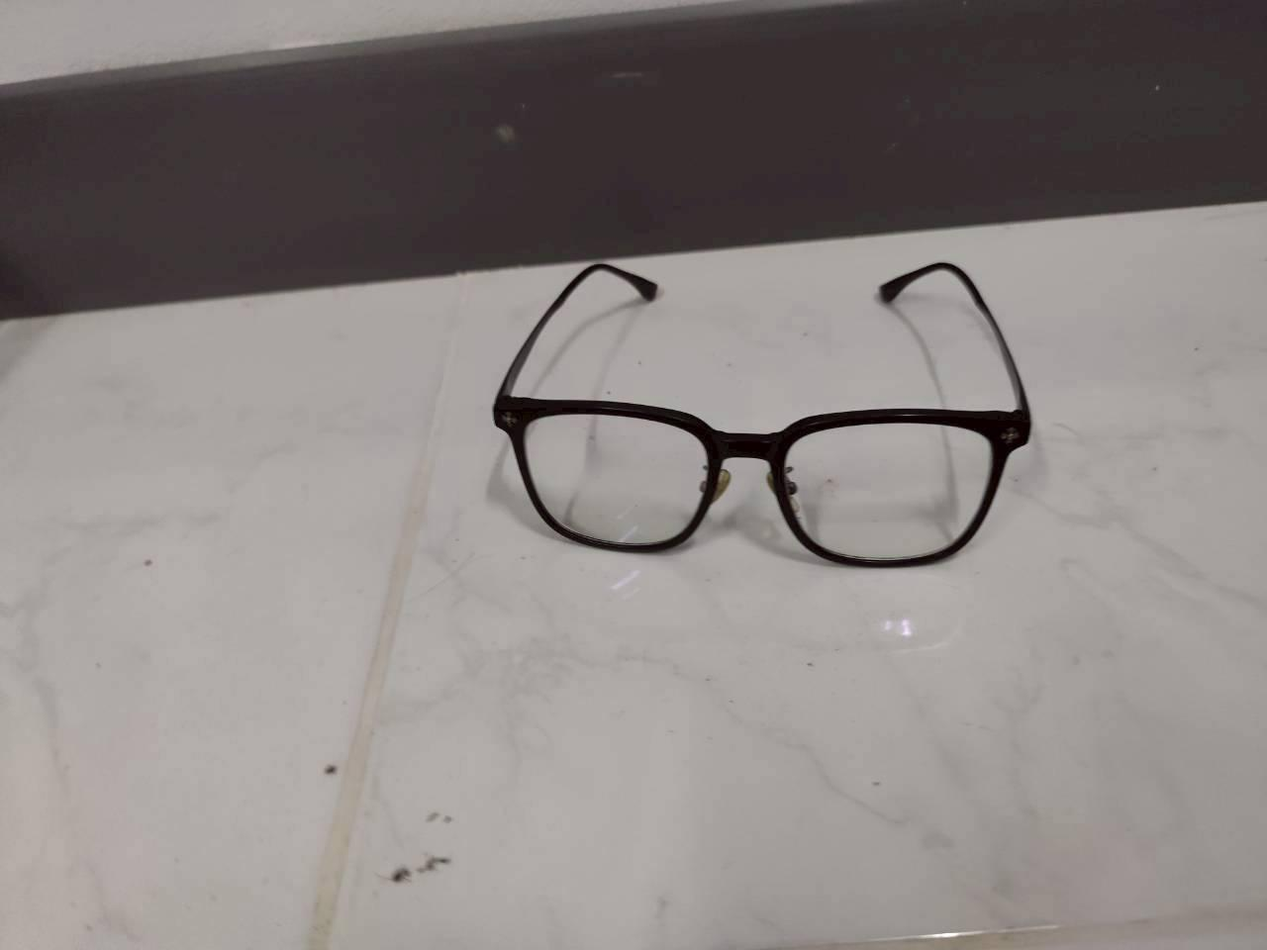glasses: (489, 244, 1049, 593)
